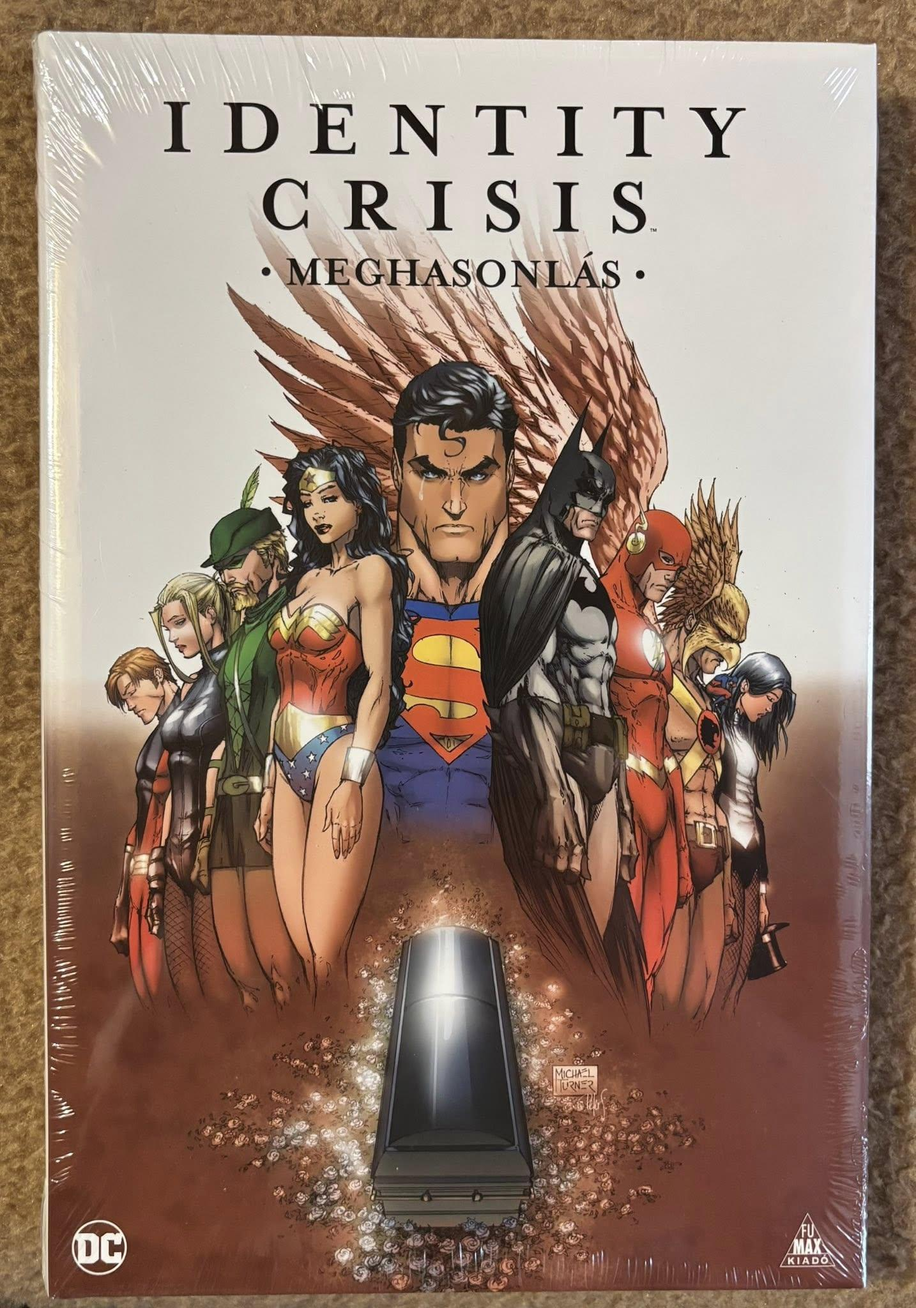comic: (36, 34, 875, 1296)
